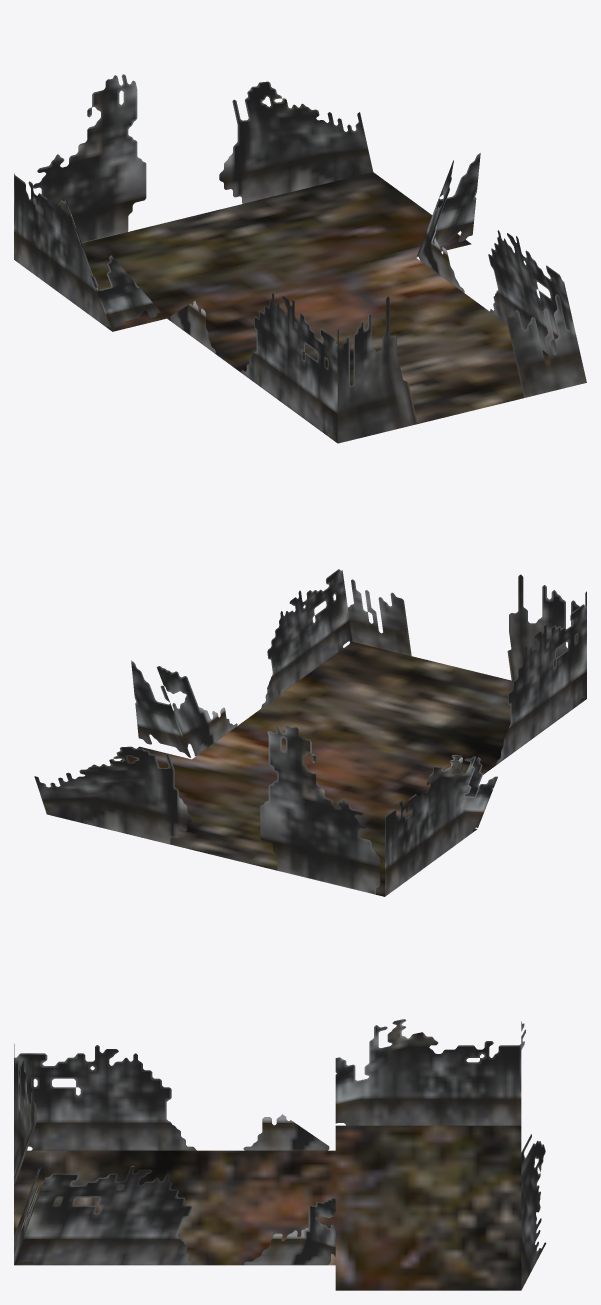
File: singlecivlivingd_dam.glb
The picture shows the model from 3 angles, top to bottom: view 1: azimuth 30°, elevation 25°; view 2: azimuth 150°, elevation 25°; view 3: azimuth 270°, elevation 25°; orthographic projection. The views are drawn at different scales.
Visible parts, largest first — view 1: Box01; view 2: Box01; view 3: Box01.
Part boxes in pixels (bbox=[...]): Box01: bbox=[14, 74, 586, 443]; Box01: bbox=[34, 569, 586, 896]; Box01: bbox=[14, 1019, 546, 1290].
Bounding box in the file's own units: 4.79 × 2.48 × 5.86.
Materials: 1 (1 with a texture image).
